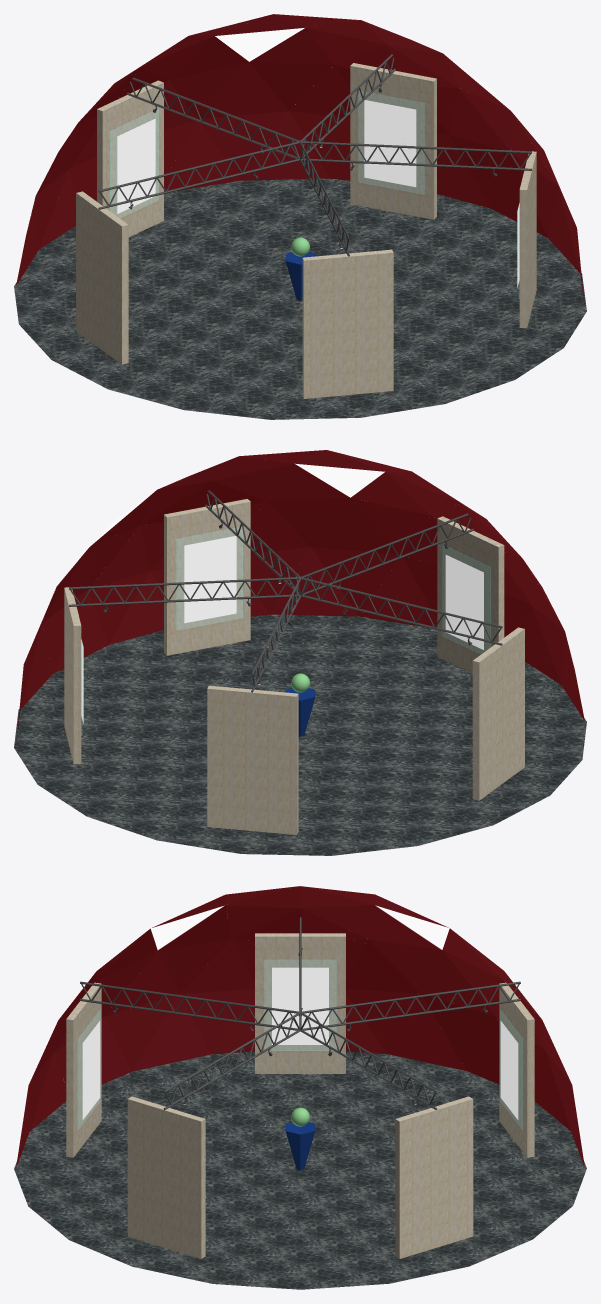
The model's file is house-5.glb.
The picture shows the model from 3 angles, top to bottom: view 1: azimuth 30°, elevation 25°; view 2: azimuth 150°, elevation 25°; view 3: azimuth 270°, elevation 25°; orthographic projection.
Visible parts, largest first — view 1: floor_001, red_light, back, lan, Flat_001, glass, Flat_002, white_light, lan2, zhu; view 2: floor_001, red_light, back, lan, Flat_003, glass, Flat_004, lan2, white_light, zhu; view 3: floor_001, red_light, back, lan, Flat_005, glass, lan2, white_light, Flat_004, Flat_002, zhu.
Boxes of the visible parts, left/top/right/bottom form: floor_001: left=14, top=178, right=586, bottom=419; red_light: left=16, top=14, right=584, bottom=306; back: left=76, top=63, right=536, bottom=398; lan: left=98, top=54, right=531, bottom=209; Flat_001: left=364, top=100, right=416, bottom=187; glass: left=110, top=91, right=519, bottom=297; Flat_002: left=117, top=118, right=155, bottom=213; white_light: left=215, top=28, right=508, bottom=108; lan2: left=299, top=141, right=349, bottom=256; zhu: left=285, top=252, right=315, bottom=300; floor_001: left=14, top=614, right=586, bottom=855; red_light: left=16, top=450, right=584, bottom=745; back: left=64, top=499, right=524, bottom=834; lan: left=69, top=490, right=502, bottom=692; Flat_003: left=184, top=536, right=236, bottom=623; glass: left=81, top=527, right=490, bottom=733; Flat_004: left=445, top=555, right=483, bottom=649; lan2: left=301, top=513, right=473, bottom=595; white_light: left=92, top=464, right=384, bottom=544; zhu: left=285, top=688, right=315, bottom=736; floor_001: left=14, top=1051, right=586, bottom=1289; red_light: left=16, top=886, right=584, bottom=1167; back: left=66, top=933, right=534, bottom=1258; lan: left=163, top=917, right=520, bottom=1110; Flat_005: left=272, top=967, right=328, bottom=1044; glass: left=78, top=960, right=522, bottom=1128; lan2: left=80, top=981, right=299, bottom=1030; white_light: left=151, top=906, right=449, bottom=949; Flat_004: left=82, top=1020, right=100, bottom=1119; Flat_002: left=500, top=1021, right=518, bottom=1119; zhu: left=285, top=1122, right=315, bottom=1170.
Size of the model in its own units: 11.78 by 6.16 by 11.78.
Materials: 17 (2 with a texture image).
